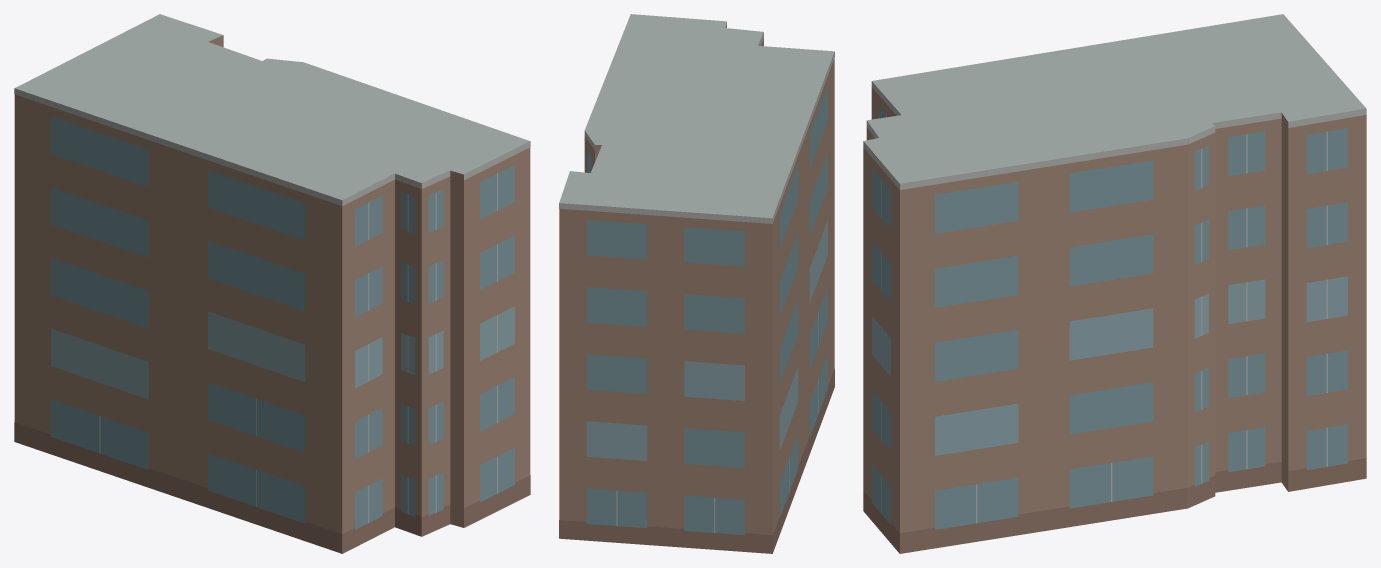
Rendered from survey-upis-32718064.glb.
3 views of the same model, side by side, from view 1: azimuth 30°, elevation 25°; view 2: azimuth 150°, elevation 25°; view 3: azimuth 270°, elevation 25° (orthographic). The views are drawn at different scales.
Parts seen in each view (by area): view 1: survey-upis-32718064.tmp; view 2: survey-upis-32718064.tmp; view 3: survey-upis-32718064.tmp.
Boxes of the visible parts, x1,y1,x2,y2 form: survey-upis-32718064.tmp: (14,14,530,553); survey-upis-32718064.tmp: (559,14,834,553); survey-upis-32718064.tmp: (863,14,1366,553).
Size of the model in its own units: 14.29 by 14.5 by 17.88.
